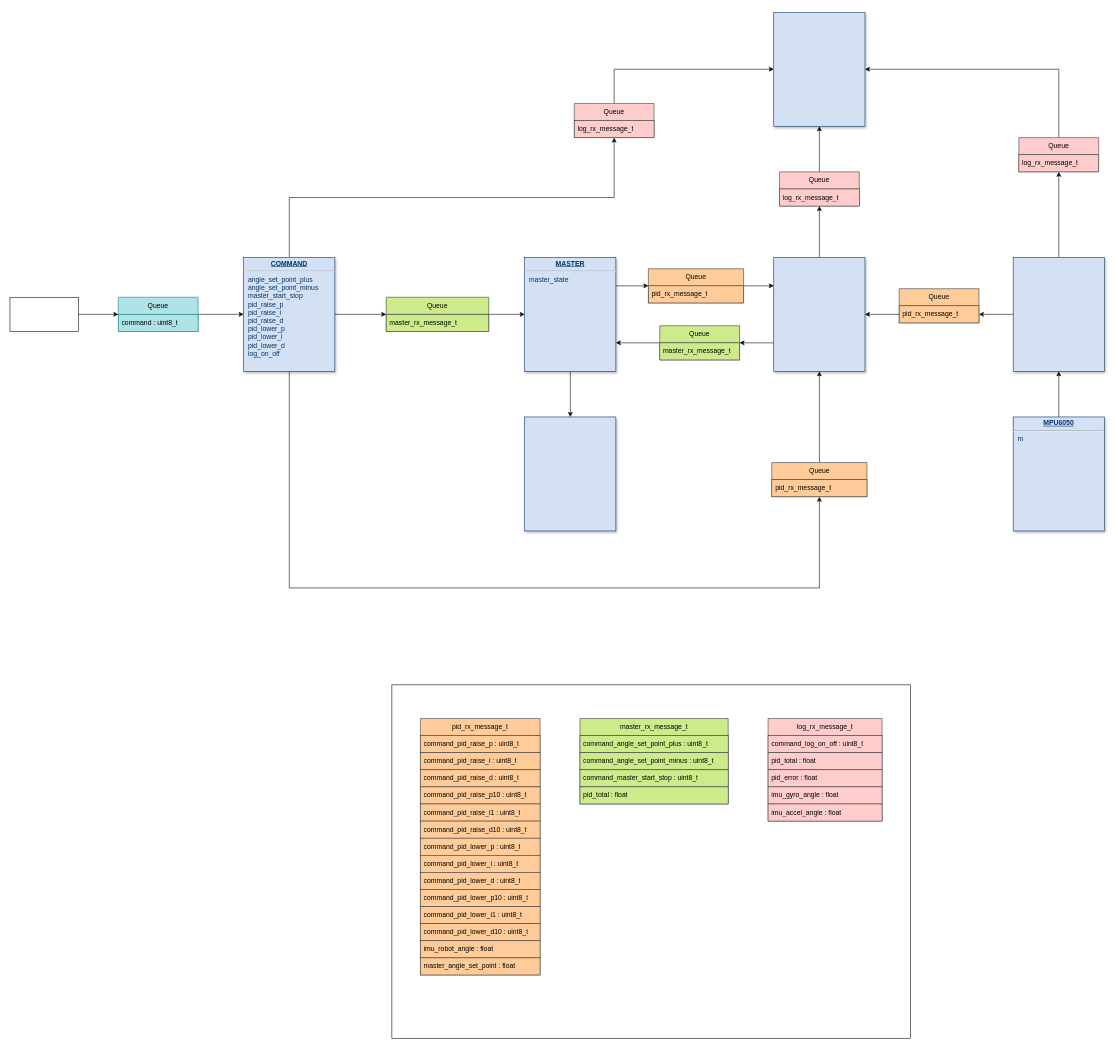
Some shapes in this 1118 by 1048 pixel diagram are drawn without their labels. Here are the shapes that lost their labels. From the top down, the centre of each, then its label:
At point 819,69: "LOG imu_gyro_angle imu_accel_angle pid_total pid_error".
At point 43,314: "UART ISR".
At point 819,315: "PID pid_error pid_total Kp Ki Kd pid_p pid_i pid_d".
At point 1059,315: "IMU gyro_angle accel_angle robot_angle is_angle_critical".
At point 570,474: "MOTOR CONTROL m".
